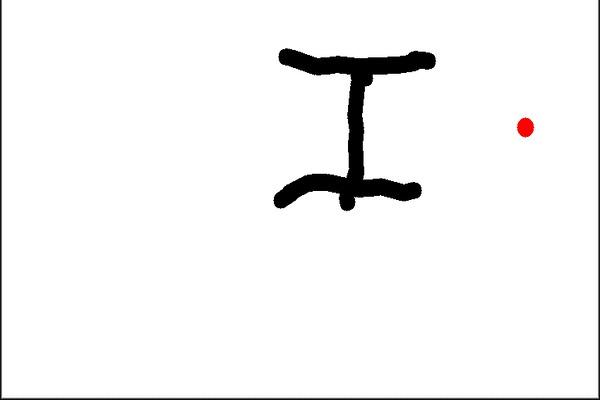i: (265, 42, 448, 220)
